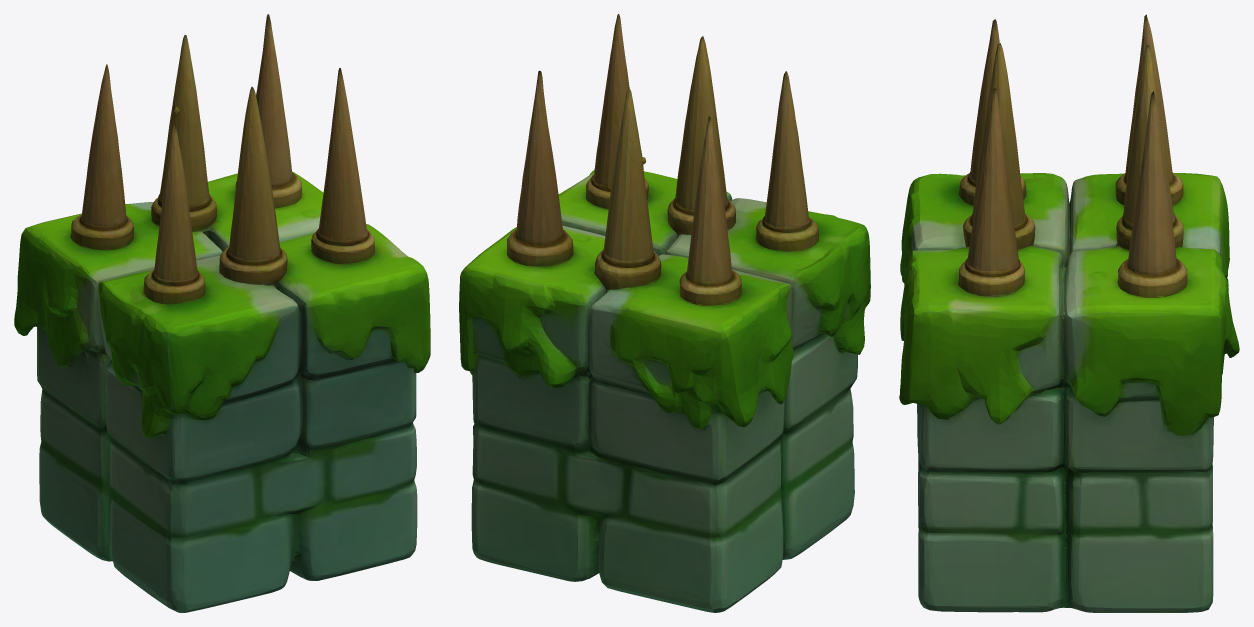
Rendered from tile_spike-stonegrassy.glb.
3 views of the same model, side by side, from view 1: azimuth 30°, elevation 25°; view 2: azimuth 150°, elevation 25°; view 3: azimuth 270°, elevation 25° (orthographic). The views are drawn at different scales.
Parts seen in each view (by area): view 1: world; view 2: world; view 3: world.
Boxes of the visible parts, left/top/right/bottom form: world: left=14, top=14, right=430, bottom=612; world: left=459, top=14, right=870, bottom=612; world: left=899, top=14, right=1239, bottom=612.
Bounding box in the file's own units: 0.639 × 1 × 0.6081.
Materials: 1 (1 with a texture image).
